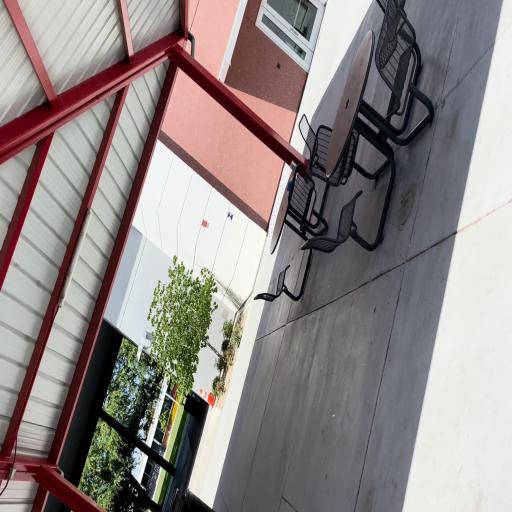target9: (227, 210, 234, 221)
